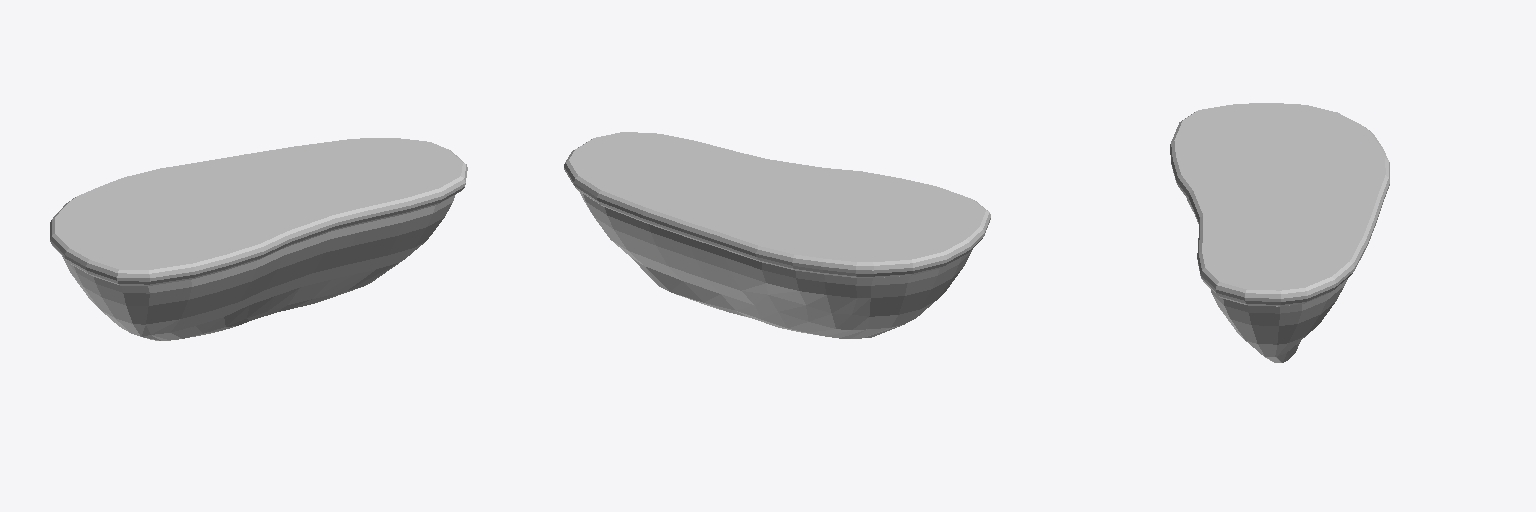
The model's file is islando4.obj.
3 views of the same model, side by side, from view 1: azimuth 30°, elevation 25°; view 2: azimuth 150°, elevation 25°; view 3: azimuth 270°, elevation 25° (orthographic).
Parts seen in each view (by area): view 1: polySurface1; view 2: polySurface1; view 3: polySurface1.
Boxes of the visible parts, box(x1,y1,x2,y2) form: polySurface1: box(50, 138, 467, 340); polySurface1: box(564, 132, 990, 338); polySurface1: box(1170, 103, 1389, 362).
Size of the model in its own units: 505 by 146 by 245.